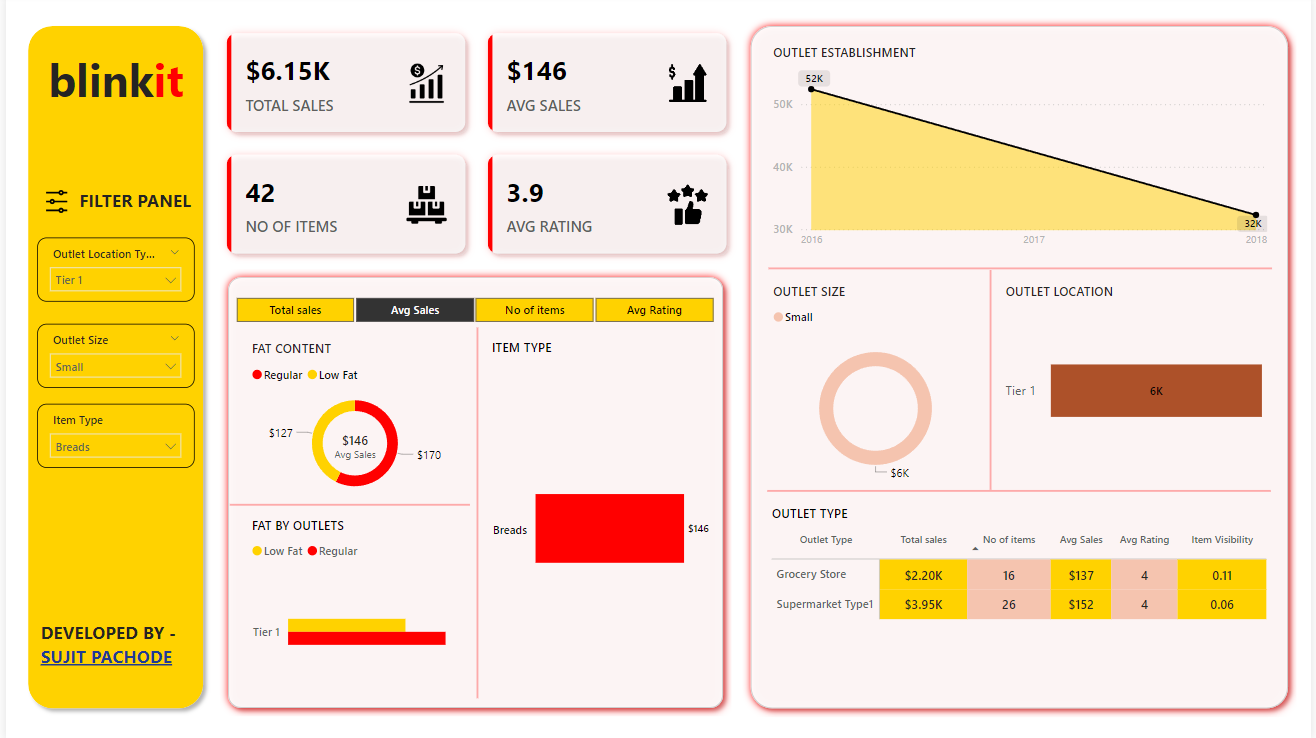

The page's visual inventory and layout, read from the dashboard file:
{"tool":"powerbi","page":{"name":"Page 1","canvas":[1400,800],"ordinal":0},"visuals":[{"type":"shape","box":[14.3,24.3,205.7,750],"z":0},{"type":"textbox","box":[15,52.5,206.2,93.8],"z":1000},{"type":"cardVisual","fields":{"Data":["BlinkIT Grocery Data.Total sales","BlinkIT Grocery Data.Avg Sales","BlinkIT Grocery Data.No of items","BlinkIT Grocery Data.Avg Rating"]},"box":[220,23.8,570,270],"z":2000},{"type":"shape","box":[228.8,293.8,548.8,480],"z":3000},{"type":"donutChart","title":"FAT CONTENT","fields":{"Y":["BlinkIT Grocery Data.Avg Sales"],"Category":["BlinkIT Grocery Data.Item Fat Content"]},"box":[258.8,370,231.2,176.2],"z":4000},{"type":"slicer","fields":{"Values":["Metrics.Metrics"]},"box":[221.4,317.1,561.4,40],"z":5000},{"type":"cardVisual","fields":{"Data":["BlinkIT Grocery Data.Avg Sales"]},"box":[320,438.6,108.6,90],"z":6000},{"type":"clusteredBarChart","title":"FAT BY OUTLETS","fields":{"Y":["BlinkIT Grocery Data.Avg Sales"],"Category":["BlinkIT Grocery Data.Outlet Location Type"],"Series":["BlinkIT Grocery Data.Item Fat Content"]},"box":[258.8,558.8,247.5,196.2],"z":7000},{"type":"shape","box":[240,500,257.8,93.3],"z":8000},{"type":"shape","box":[444.4,356.7,121.1,397.8],"z":9000},{"type":"barChart","title":"ITEM TYPE","fields":{"Y":["BlinkIT Grocery Data.Avg Sales"],"Category":["BlinkIT Grocery Data.Item Type"]},"box":[515.7,368.6,242.9,385.7],"z":10000},{"type":"shape","box":[790,24.3,594.3,750],"z":11000},{"type":"lineChart","title":"OUTLET ESTABLISHMENT","fields":{"Y":["Sum(BlinkIT Grocery Data.Outlet Establishment Year)"],"Category":["BlinkIT Grocery Data.Outlet Establishment Year"]},"box":[817.1,52.9,540,227.1],"z":12000},{"type":"shape","box":[817.1,158.6,540,270],"z":13000},{"type":"donutChart","title":"OUTLET SIZE","fields":{"Y":["BlinkIT Grocery Data.Total sales"],"Category":["BlinkIT Grocery Data.Outlet Size"]},"box":[817.5,308.8,230,225],"z":14000},{"type":"funnel","title":"OUTLET LOCATION","fields":{"Y":["Sum(BlinkIT Grocery Data.Sales)"],"Category":["BlinkIT Grocery Data.Outlet Location Type"]},"box":[1067.1,308.6,290,212.9],"z":15000},{"type":"shape","box":[816.4,396.4,540,270],"z":16000},{"type":"shape","box":[922.9,294.3,267.1,235.7],"z":17000},{"type":"pivotTable","title":"OUTLET TYPE","fields":{"Rows":["BlinkIT Grocery Data.Outlet Type"],"Values":["BlinkIT Grocery Data.Total sales","BlinkIT Grocery Data.No of items","BlinkIT Grocery Data.Avg Sales","BlinkIT Grocery Data.Avg Rating","Avg(BlinkIT Grocery Data.Item Visibility)"]},"box":[816.2,546.2,567.5,210],"z":18000},{"type":"slicer","fields":{"Values":["BlinkIT Grocery Data.Outlet Location Type"]},"box":[32.9,260,168.6,68.6],"z":19000},{"type":"slicer","fields":{"Values":["BlinkIT Grocery Data.Outlet Size"]},"box":[32.9,352.9,168.6,68.6],"z":20000},{"type":"slicer","fields":{"Values":["BlinkIT Grocery Data.Item Type"]},"box":[32.9,438.6,168.6,68.6],"z":21000},{"type":"textbox","box":[74,202,206.7,47.3],"z":22000},{"type":"image","box":[32.9,201.8,41.2,40.6],"z":23000},{"type":"textbox","box":[32.5,666.2,207.5,61.2],"z":24000}]}

Visuals, with their boxes in screenshot pixels (x1, y1, x2, y2), scaled from the page's 1400x800 canvas onto the 1316x738 screenshot:
shape: region(13, 22, 207, 714)
textbox: region(14, 48, 208, 135)
cardVisual - BlinkIT Grocery Data.Total sales x BlinkIT Grocery Data.Avg Sales: region(207, 22, 743, 271)
shape: region(215, 271, 731, 714)
"FAT CONTENT" donutChart: region(243, 341, 461, 504)
slicer - Metrics.Metrics: region(208, 293, 736, 329)
cardVisual - BlinkIT Grocery Data.Avg Sales: region(301, 405, 403, 488)
"FAT BY OUTLETS" clusteredBarChart: region(243, 515, 476, 696)
shape: region(226, 461, 468, 547)
shape: region(418, 329, 532, 696)
"ITEM TYPE" barChart: region(485, 340, 713, 696)
shape: region(743, 22, 1301, 714)
"OUTLET ESTABLISHMENT" lineChart: region(768, 49, 1276, 258)
shape: region(768, 146, 1276, 395)
"OUTLET SIZE" donutChart: region(768, 285, 985, 492)
"OUTLET LOCATION" funnel: region(1003, 285, 1276, 481)
shape: region(767, 366, 1275, 615)
shape: region(868, 271, 1119, 489)
"OUTLET TYPE" pivotTable: region(767, 504, 1301, 698)
slicer - BlinkIT Grocery Data.Outlet Location Type: region(31, 240, 189, 303)
slicer - BlinkIT Grocery Data.Outlet Size: region(31, 326, 189, 389)
slicer - BlinkIT Grocery Data.Item Type: region(31, 405, 189, 468)
textbox: region(70, 186, 264, 230)
image: region(31, 186, 70, 224)
textbox: region(31, 615, 226, 671)
